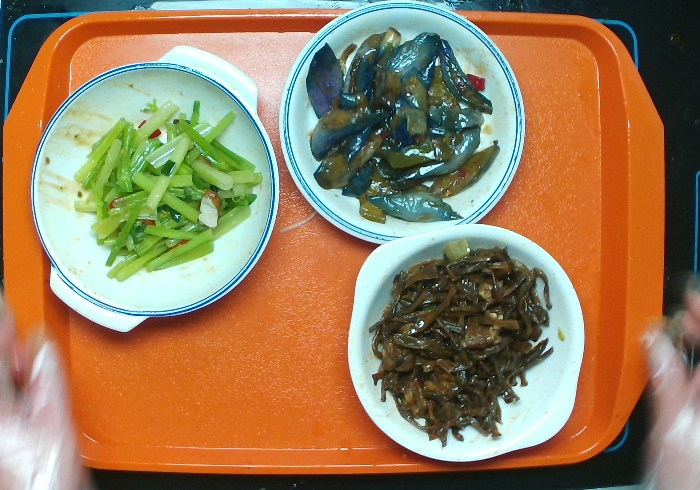HZYJPL-Dai_Er_Bai_Yuan_Wan: (345, 221, 587, 466)
HZYJPL-Lan_Bian_Dai_Er_Wan: (26, 42, 283, 336)
HZYJPL-Lan_Bian_Yuan_Die: (276, 1, 528, 247)
